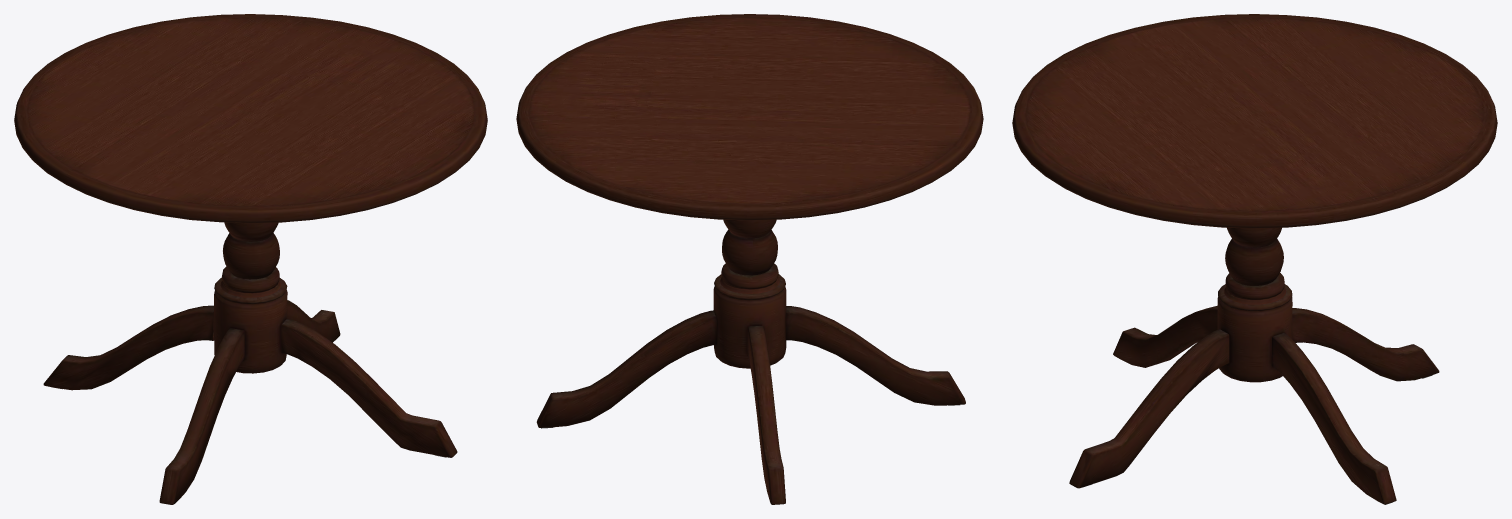
The model's file is round_wooden_table_01.glb.
The picture shows the model from 3 angles, left to right: view 1: azimuth 30°, elevation 25°; view 2: azimuth 150°, elevation 25°; view 3: azimuth 270°, elevation 25°; orthographic projection. The views are drawn at different scales.
Visible parts, largest first — view 1: round_wooden_table_01; view 2: round_wooden_table_01; view 3: round_wooden_table_01.
Boxes of the visible parts, left/top/right/bottom form: round_wooden_table_01: left=14, top=14, right=487, bottom=504; round_wooden_table_01: left=516, top=14, right=983, bottom=504; round_wooden_table_01: left=1012, top=14, right=1497, bottom=504.
Bounding box in the file's own units: 1.4 × 1 × 1.4.
Materials: 1 (1 with a texture image).
